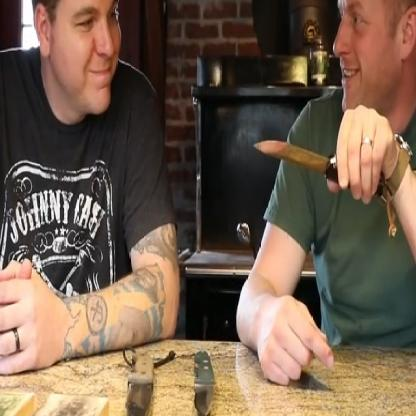knife: (247, 98, 382, 204)
